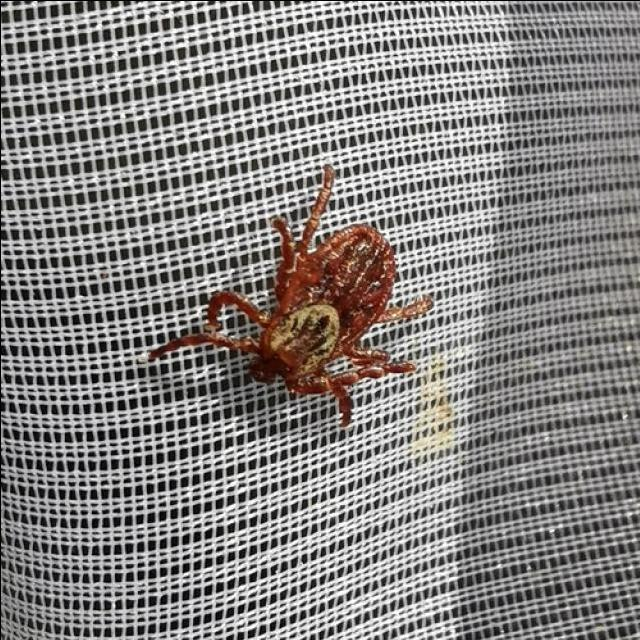Dermacentor Reticulatus-F: (143, 167, 430, 425)
